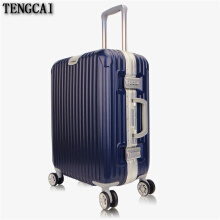luggage: (50, 4, 158, 208)
